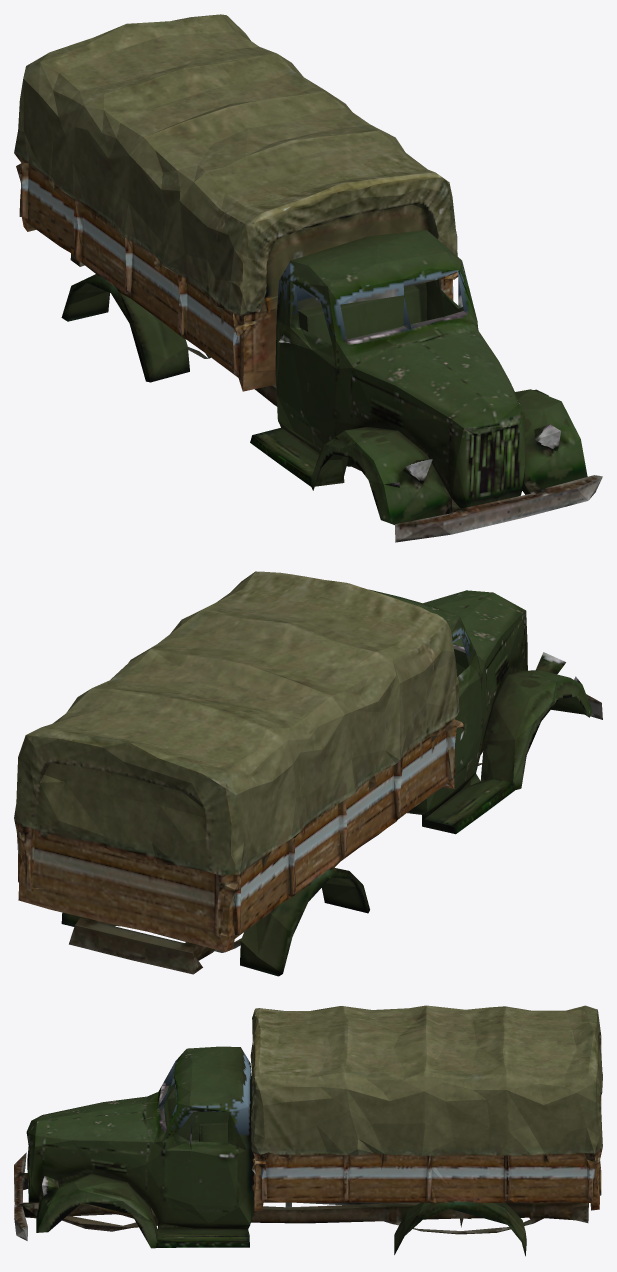
Rendered from truck.obj.
The picture shows the model from 3 angles, top to bottom: view 1: azimuth 30°, elevation 25°; view 2: azimuth 150°, elevation 25°; view 3: azimuth 270°, elevation 25°; orthographic projection. The views are drawn at different scales.
Size of the model in its own units: 0.3519 by 0.3456 by 0.9944.
1 material, 1 textured.
